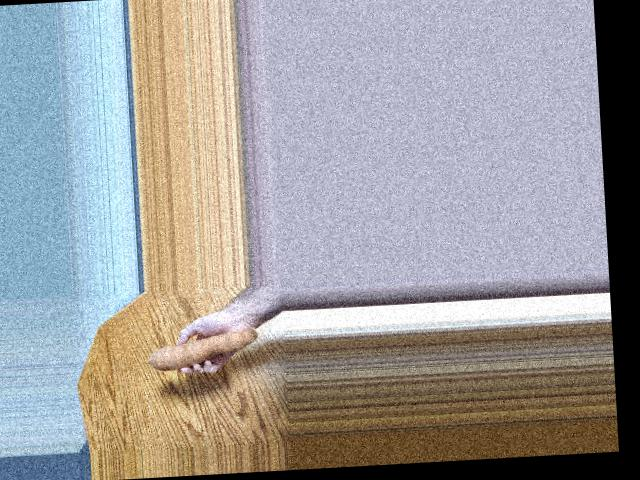sweet_potato: (141, 323, 253, 377)
